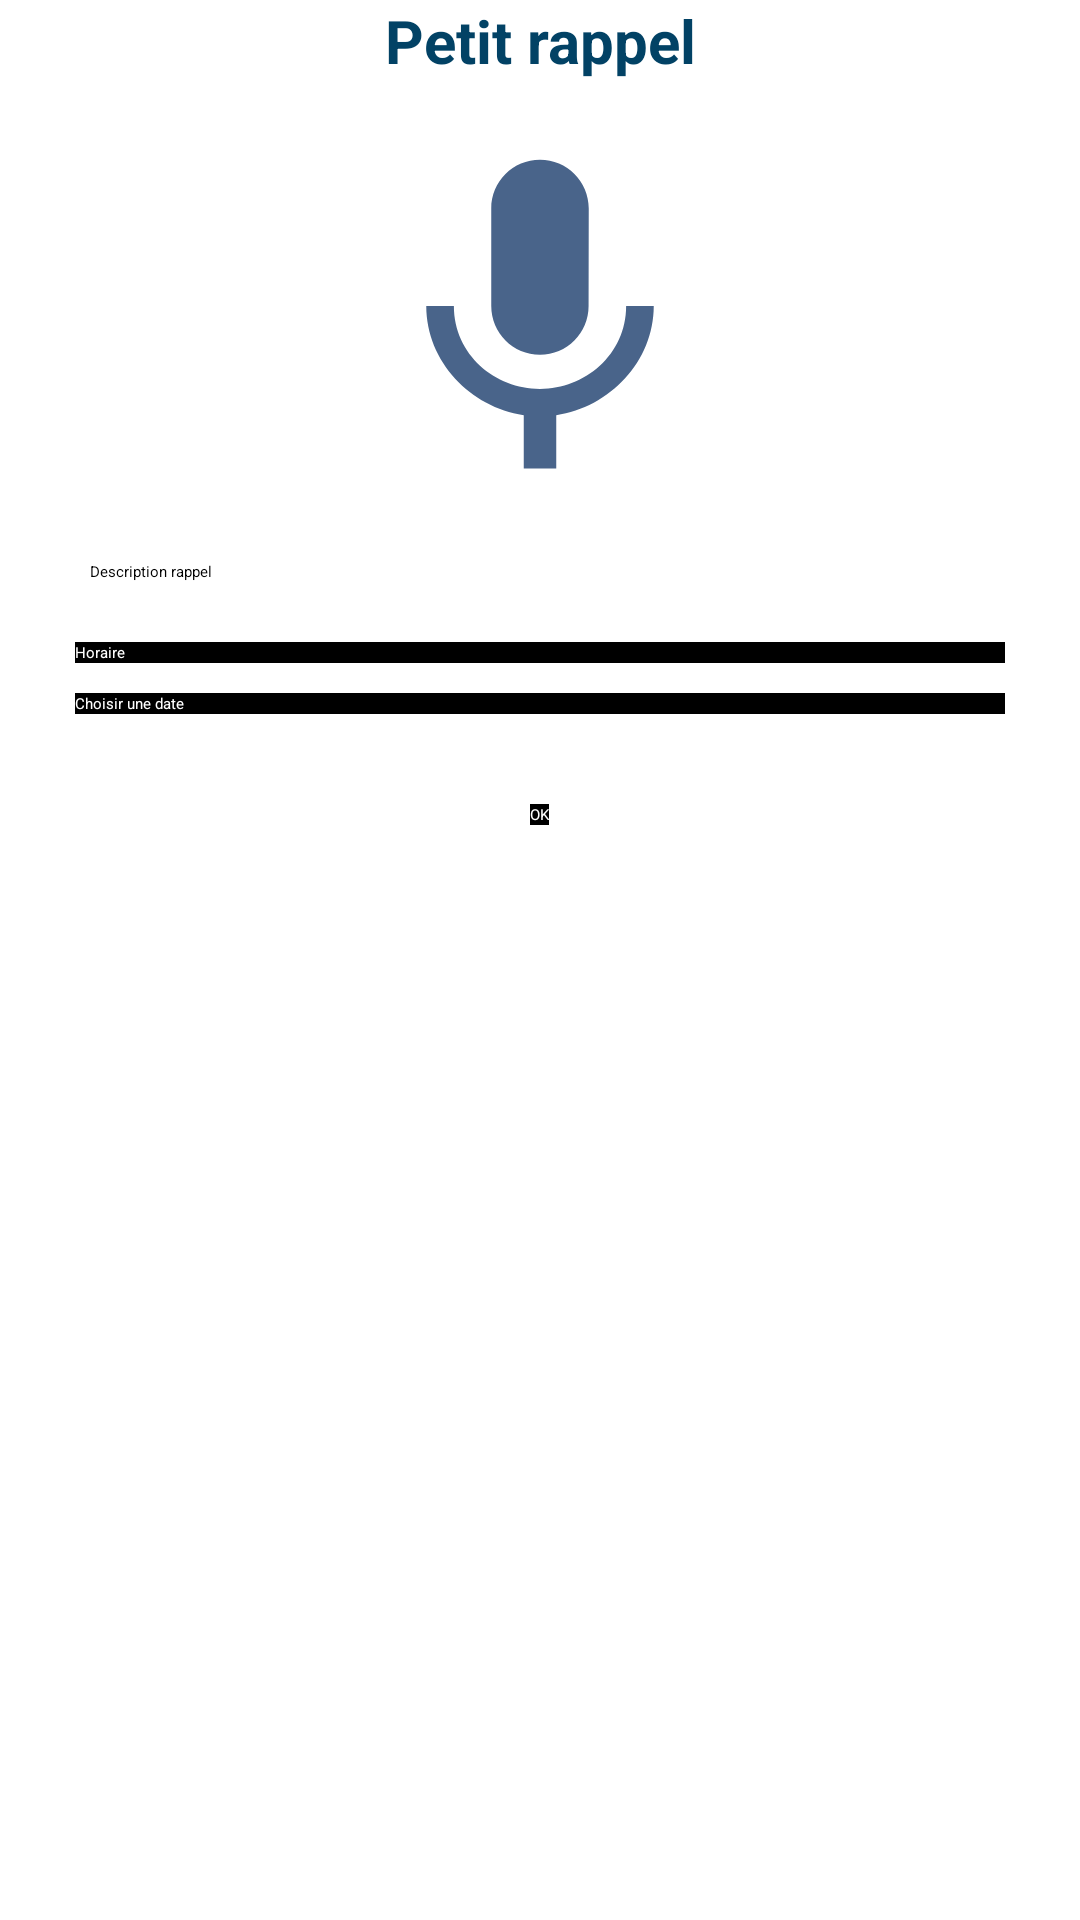

Icon bounding boxes for this 1080x1920 phone screenshot, format detection(x1, y1, x2, y2):
keyboard voice: detection(426, 159, 654, 469)
